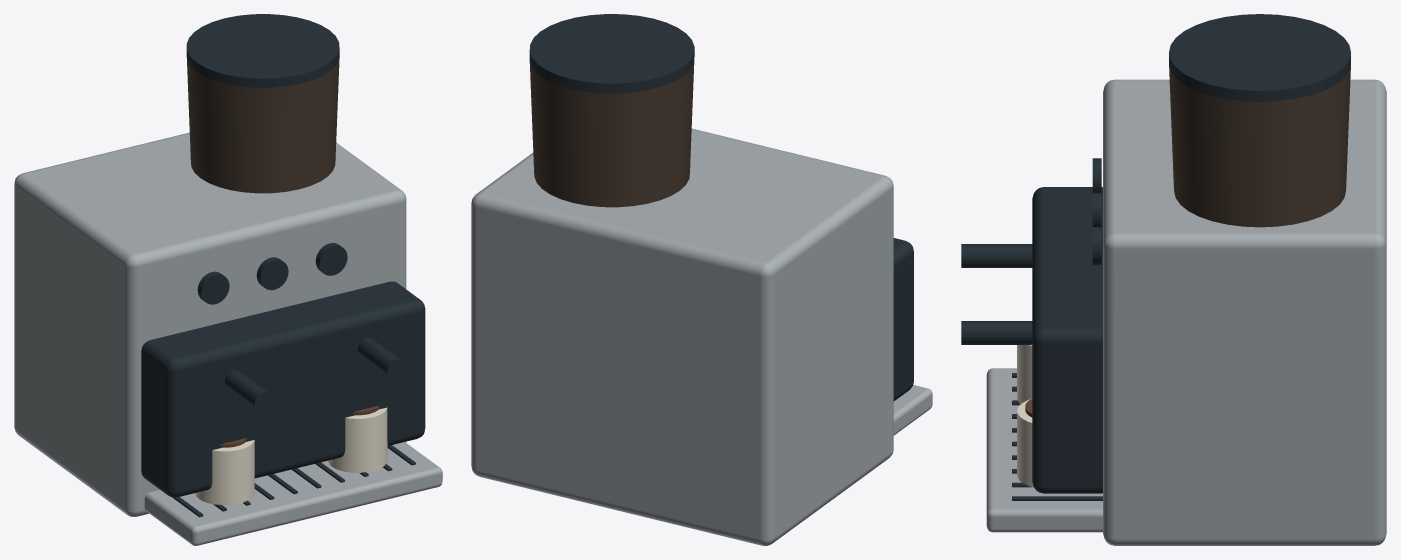
The model's file is officeEspresso.glb.
3 views of the same model, side by side, from view 1: azimuth 30°, elevation 25°; view 2: azimuth 150°, elevation 25°; view 3: azimuth 270°, elevation 25° (orthographic). The views are drawn at different scales.
Size of the model in its own units: 0.38 by 0.491 by 0.42.
